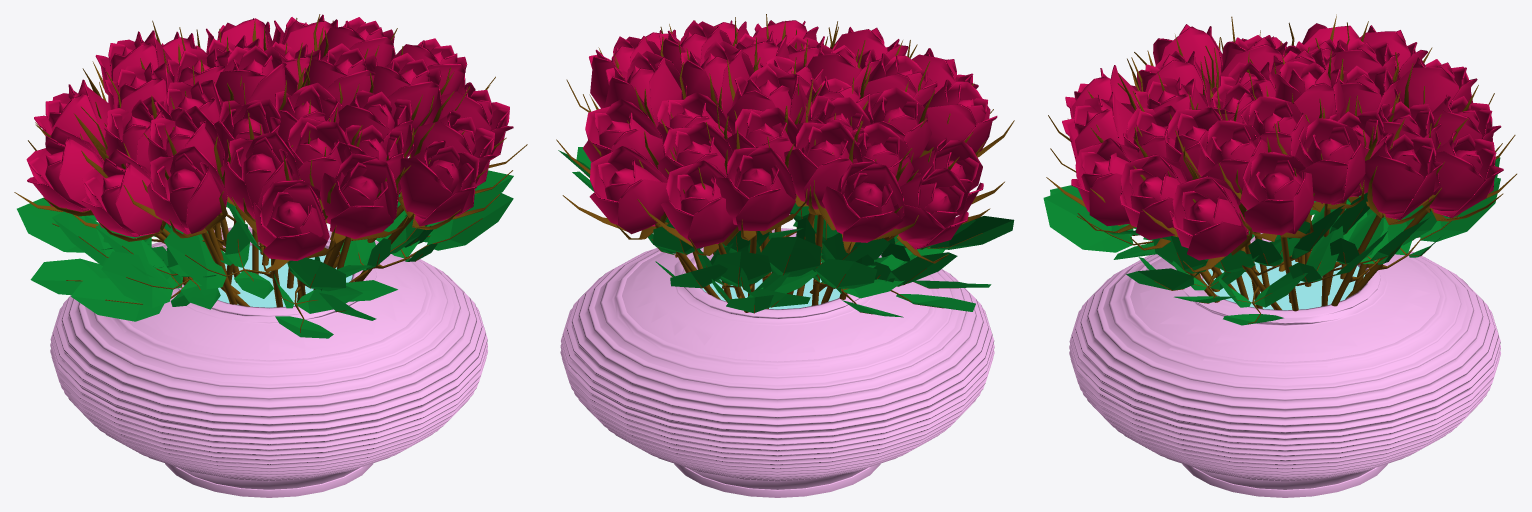
3 views of the same model, side by side, from view 1: azimuth 30°, elevation 25°; view 2: azimuth 150°, elevation 25°; view 3: azimuth 270°, elevation 25° (orthographic).
Parts seen in each view (by area): view 1: Material2 (×3), polySurface32, polySurface29, polySurface22, polySurface33, polySurface31, polySurface30, polySurface36, polySurface34, polySurface14, polySurface23, polySurface24 (+21 smaller); view 2: Material2 (×3), polySurface21, polySurface28, polySurface34, polySurface20, polySurface35, polySurface36, polySurface32, polySurface19, polySurface11, polySurface18, polySurface15 (+19 smaller); view 3: Material2 (×3), polySurface25, polySurface27, polySurface19, polySurface15, polySurface28, polySurface30, polySurface26, polySurface16, polySurface29, polySurface8, polySurface7 (+20 smaller).
Boxes of the visible parts, x1,y1,x2,y2 form: Material2 (×3): (50,226,487,497); polySurface32: (101,127,237,309); polySurface29: (354,128,513,281); polySurface22: (164,110,310,307); polySurface33: (65,133,249,321); polySurface31: (231,155,362,338); polySurface30: (309,130,410,320); polySurface36: (14,106,240,295); polySurface34: (17,68,164,252); polySurface14: (260,99,371,301); polySurface23: (95,96,233,303); polySurface24: (52,91,188,285); Material2 (×3): (560,228,994,497); polySurface21: (698,126,816,307); polySurface28: (562,131,733,299); polySurface34: (813,136,918,317); polySurface20: (767,103,888,305); polySurface35: (637,148,789,313); polySurface36: (809,148,990,311); polySurface32: (918,61,1014,249); polySurface19: (556,89,702,272); polySurface11: (706,107,823,308); polySurface18: (638,112,771,299); polySurface15: (572,41,709,285); Material2 (×3): (1069,233,1500,497); polySurface25: (1218,137,1387,311); polySurface27: (1142,157,1307,325); polySurface19: (1331,118,1443,306); polySurface15: (1274,105,1430,306); polySurface28: (1345,118,1516,299); polySurface30: (1043,73,1219,291); polySurface26: (1090,137,1258,303); polySurface16: (1175,109,1344,308); polySurface29: (1046,127,1219,302); polySurface8: (1217,86,1369,302); polySurface7: (1249,56,1357,286).
Bounding box in the file's own units: 0.6592 × 0.5584 × 0.6186.
